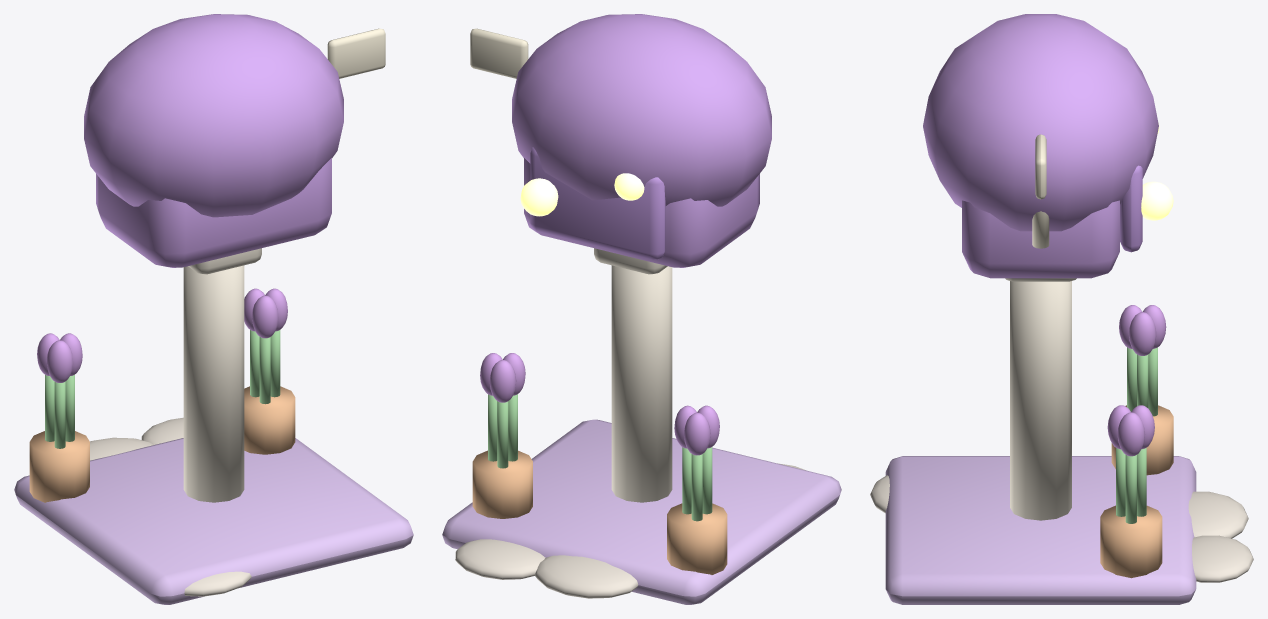
The model's file is cozy_mailbox_A.glb.
3 renders of one model, left to right at view 1: azimuth 30°, elevation 25°; view 2: azimuth 150°, elevation 25°; view 3: azimuth 270°, elevation 25°, orthographic. The views are drawn at different scales.
Parts seen in each view (by area): view 1: Dome, Pad, Post, Body, Pot0, Pot1, Flag, Sn2, Bl1_2, Bl0_2, Sn0, Collar (+7 smaller); view 2: Dome, Pad, Post, Door, Body, Pot0, Pot1, Sn0, Sn1, Flag, Knob1, Bl0_1 (+9 smaller); view 3: Dome, Pad, Post, Body, Pot1, Sn1, Sn0, Pot0, Door, Knob1, Bl1_0, Bl0_0 (+9 smaller).
Boxes of the visible parts, x1,y1,x2,y2 form: Dome: (84,14,343,217); Pad: (14,438,413,604); Post: (183,265,244,502); Body: (96,158,331,267); Pot0: (29,431,89,502); Pot1: (244,386,295,454); Flag: (327,28,385,78); Sn2: (184,571,251,596); Bl1_2: (252,295,278,338); Bl0_2: (46,340,73,382); Sn0: (90,437,154,460); Collar: (188,248,261,274); Dome: (512,14,771,206); Pad: (442,419,841,604); Post: (611,265,672,502); Door: (530,147,665,259); Body: (524,158,759,267); Pot0: (667,503,727,574); Pot1: (472,450,532,518); Sn0: (535,555,638,598); Sn1: (455,539,545,579); Flag: (470,28,528,78); Knob1: (520,178,558,216); Bl0_1: (684,412,710,455); Dome: (923,14,1158,231); Pad: (885,456,1196,604); Post: (1010,281,1071,520); Body: (962,200,1119,278); Pot1: (1100,505,1162,578); Sn1: (1192,535,1253,582); Sn0: (1188,491,1248,538); Pot0: (1111,405,1173,475); Door: (1120,165,1142,252); Knob1: (1141,181,1173,220); Bl1_0: (1117,412,1145,456); Bl0_0: (1128,312,1156,355).
Bounding box in the file's own units: 0.635 × 1.01 × 0.6795.
